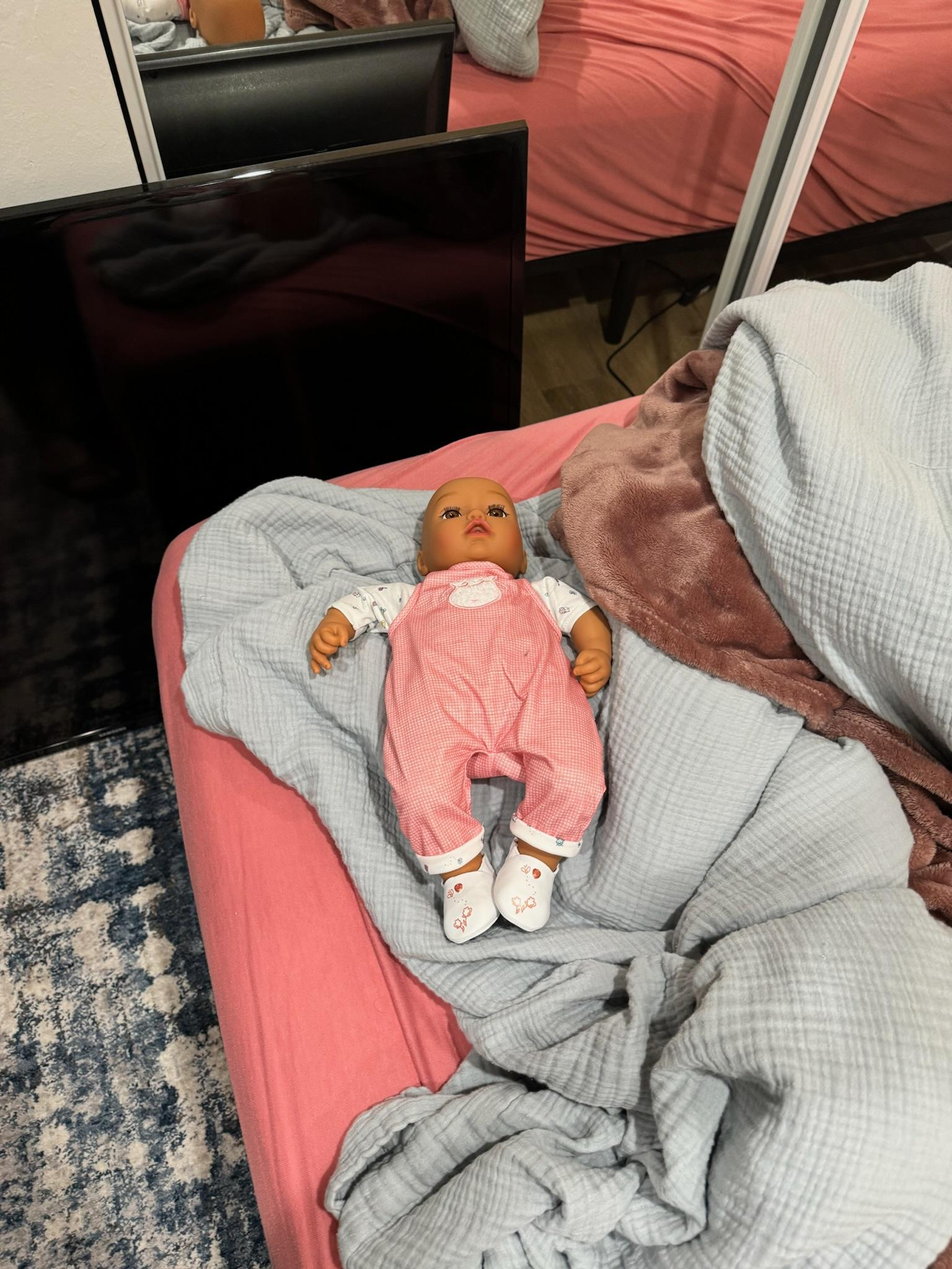baby: (335, 467, 618, 946)
